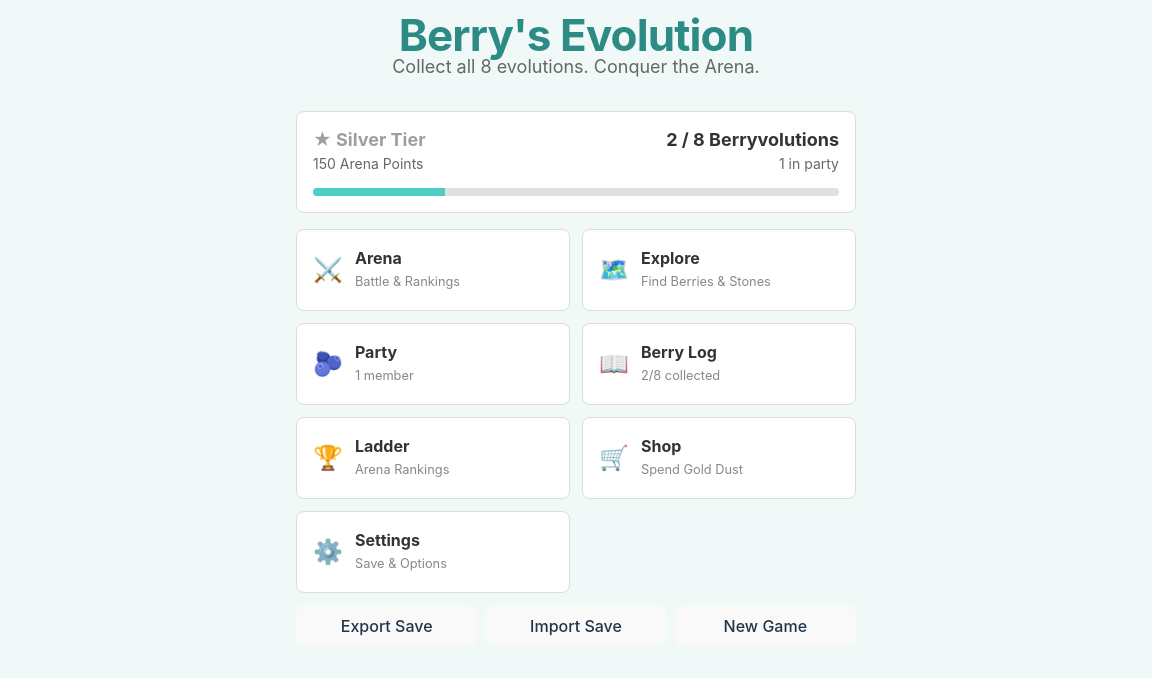
Test: MainMenu › dismisses confirm dialog when Keep Playing is clicked
(page scrolled)
Click the button "New Game".
click(765, 626)  # box [675,605,856,646]
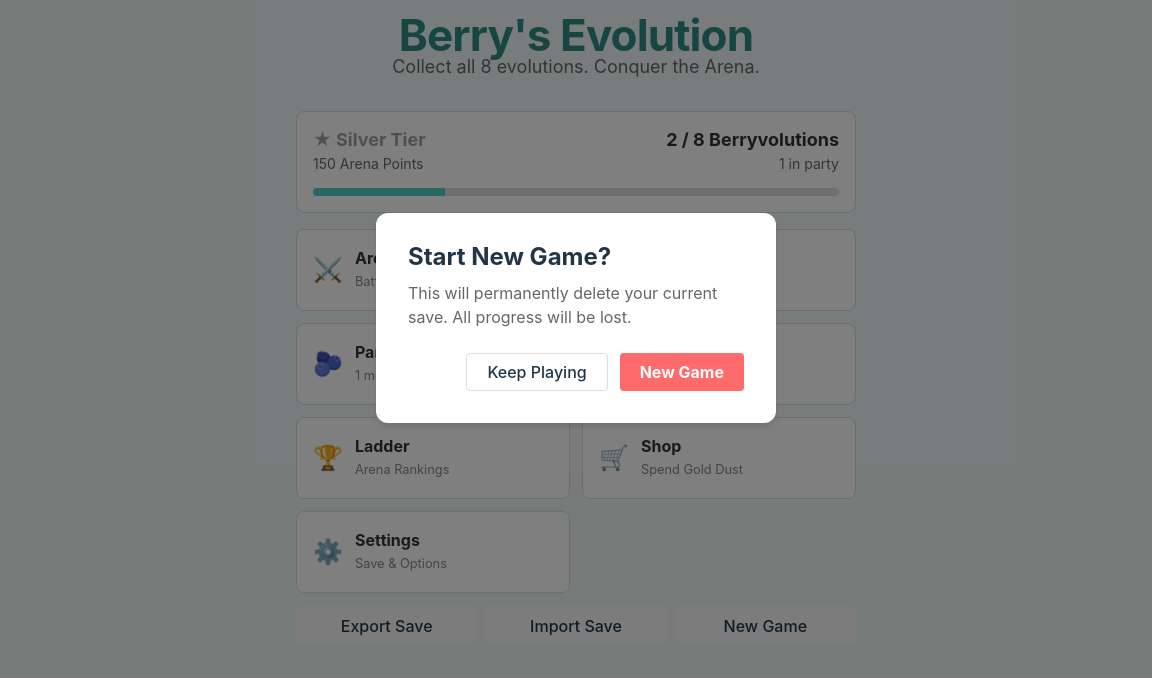
Click the button "Keep Playing".
click(537, 372)  # box [466,353,608,391]
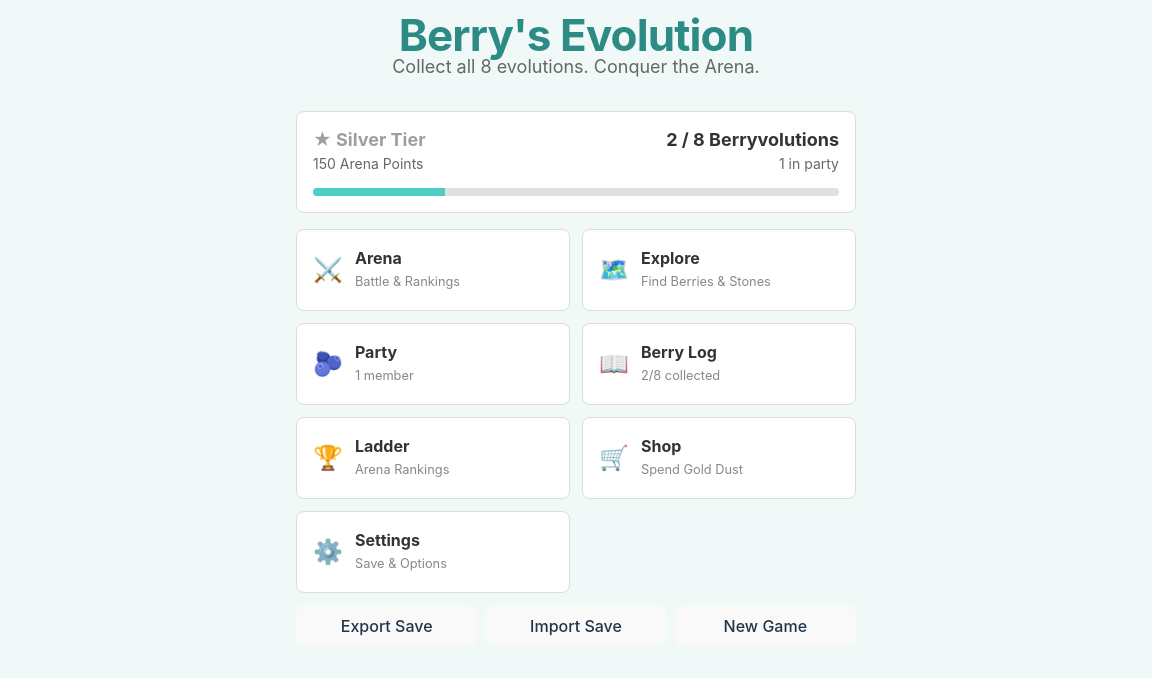
Now the text "Start New Game?" is gone
